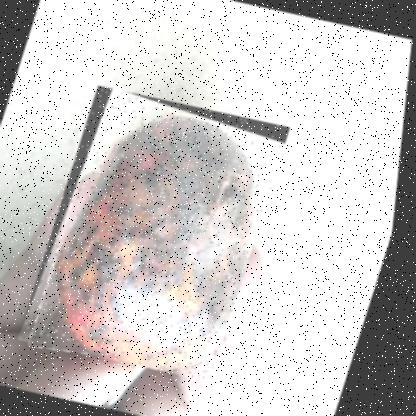pomegranate_rotten: (21, 84, 297, 382)
